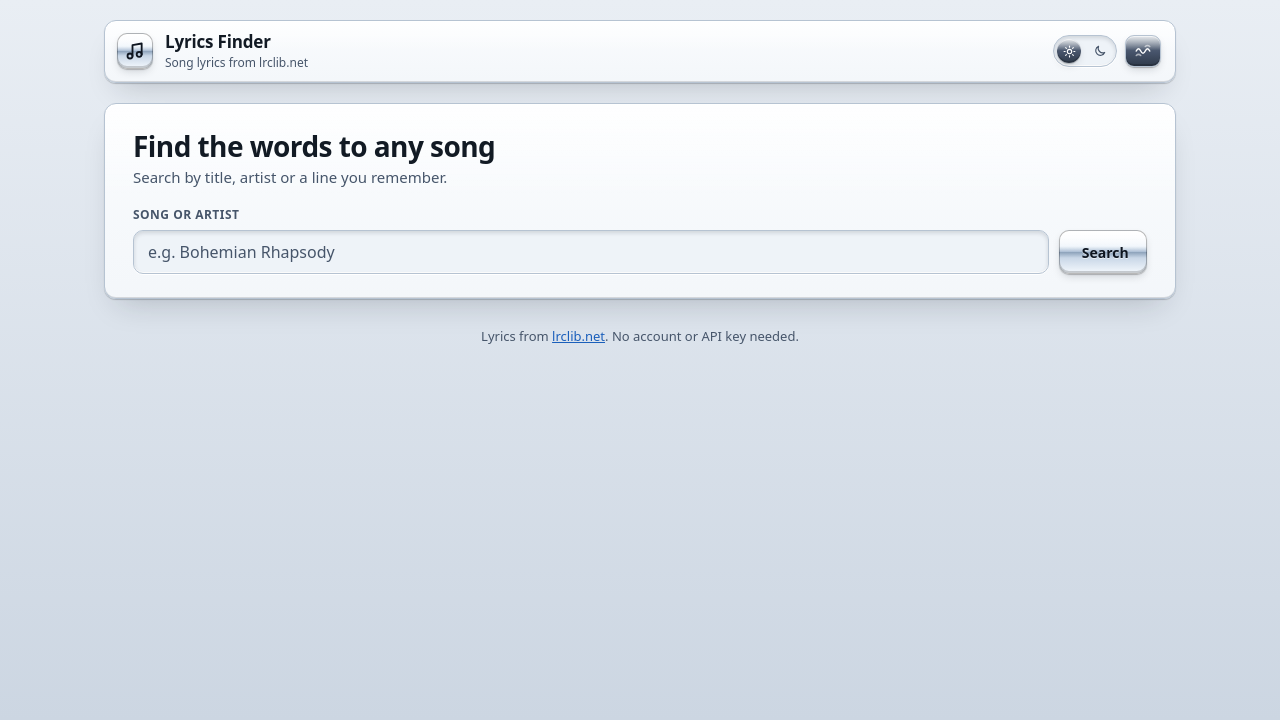
Scenario: search › aborts the old request when the query changes
Type "old" into the search field labelled "Song or artist" at point(591, 252), box 133,230 -> 1049,274
Then press Enter
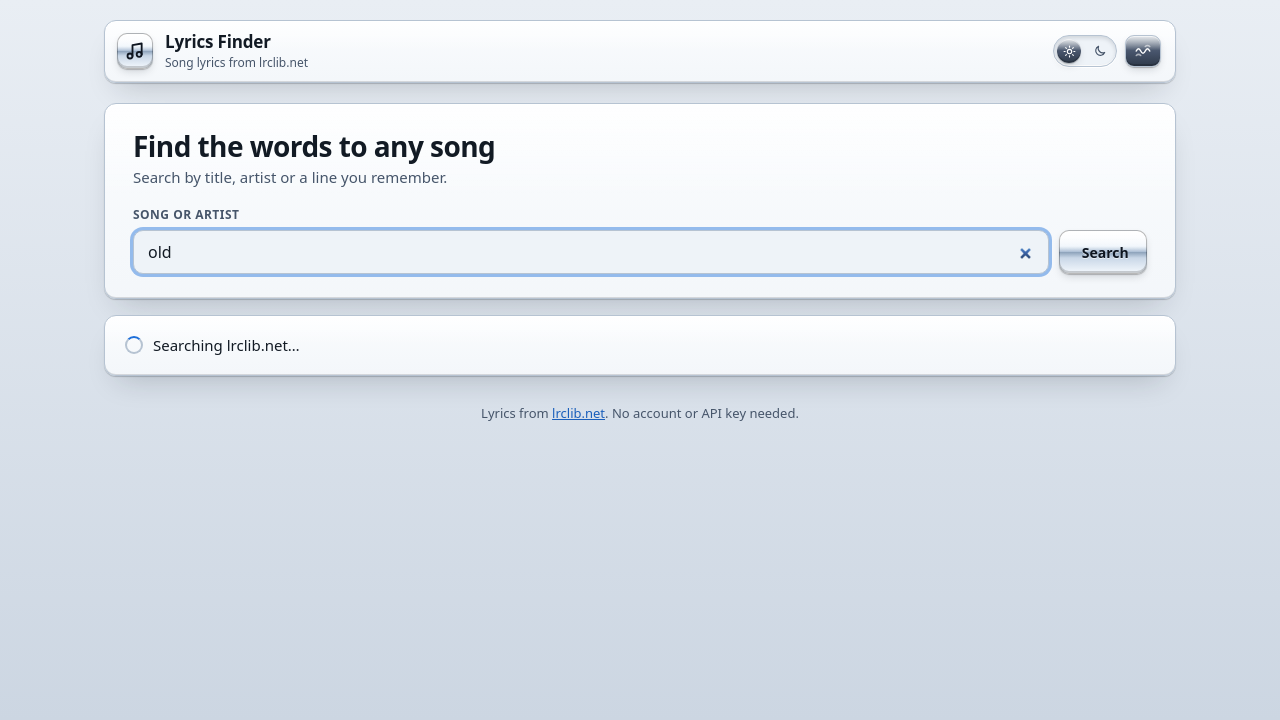
Replace the text in the search field labelled "Song or artist" with "new" at point(591, 252), box 133,230 -> 1049,274
Then press Enter
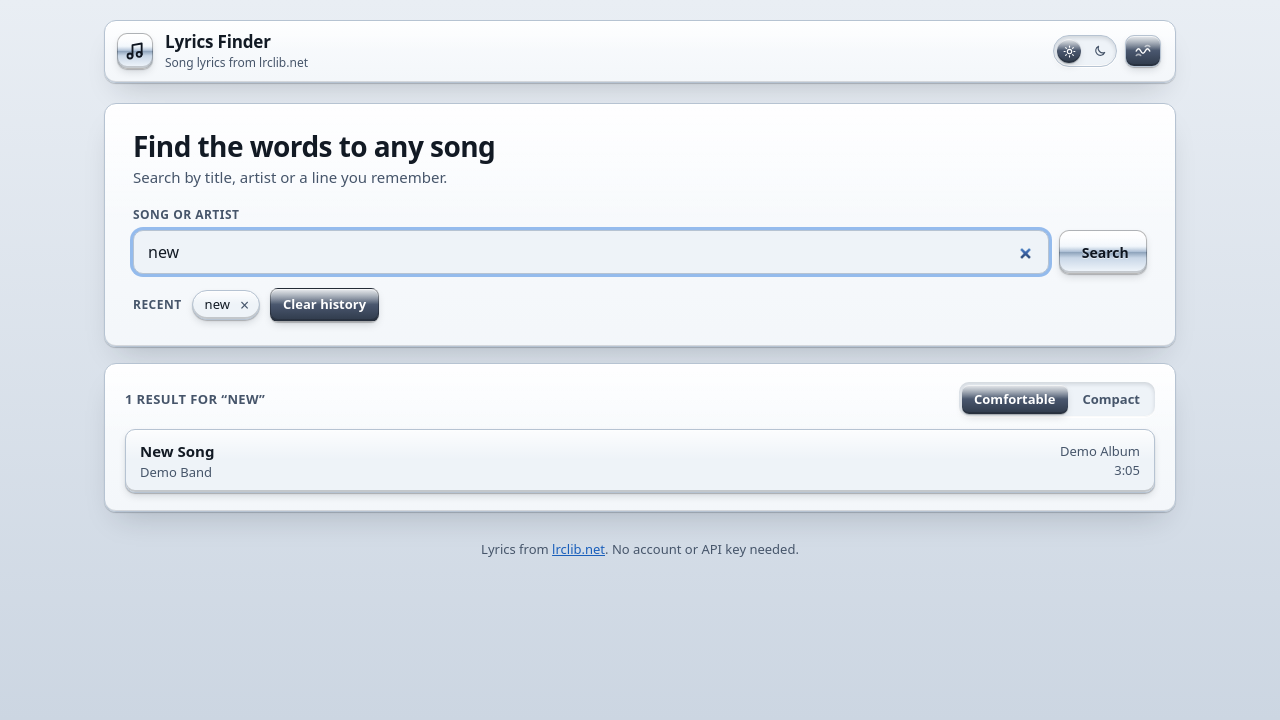
Expected: the text "New Song" is shown, 140,440 -> 214,463
